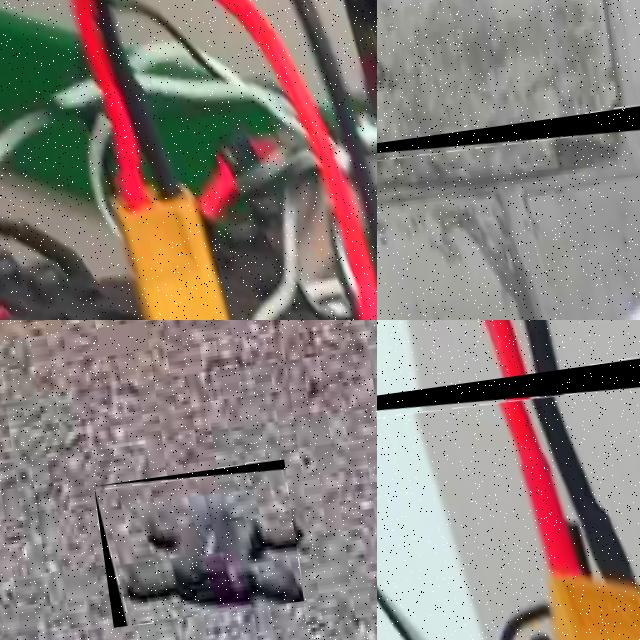0: (94, 460, 304, 628)
drone: (0, 0, 377, 320), (377, 346, 640, 640), (377, 92, 640, 320)
